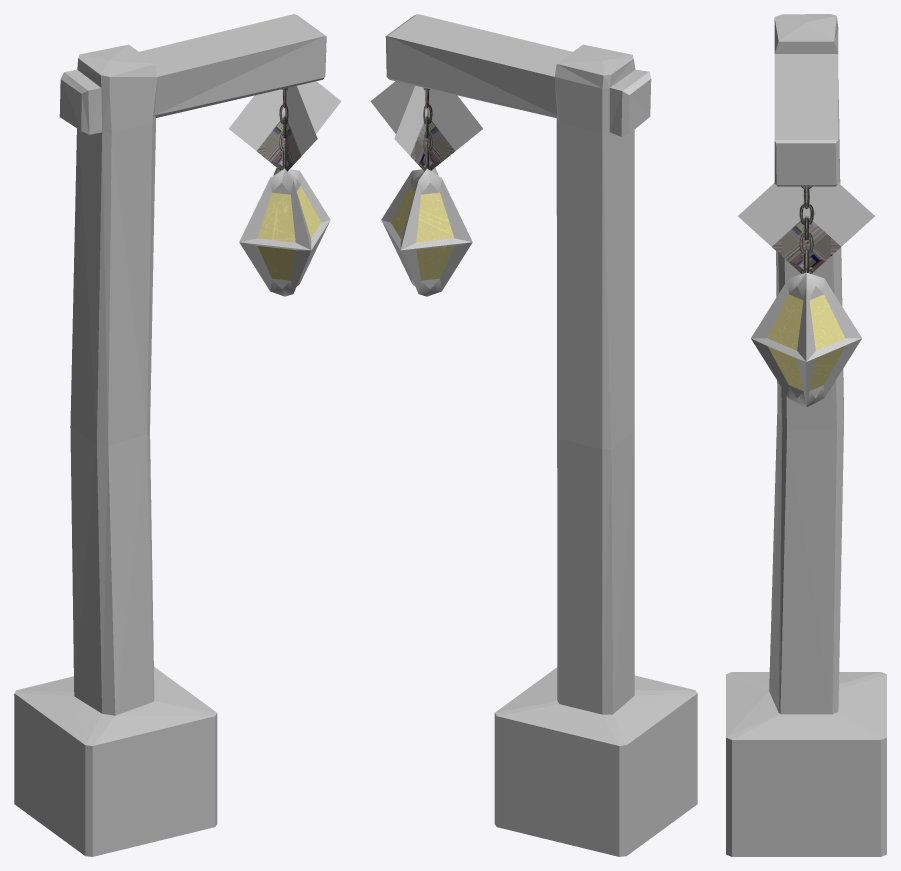
File: shared_lightpole.fbx
3 views of the same model, side by side, from view 1: azimuth 30°, elevation 25°; view 2: azimuth 150°, elevation 25°; view 3: azimuth 270°, elevation 25° (orthographic). The views are drawn at different scales.
Visible parts, largest first — view 1: shared_lightpole; view 2: shared_lightpole; view 3: shared_lightpole.
Boxes of the visible parts, x1=… form: shared_lightpole: x1=14, y1=14, x2=341, y2=856; shared_lightpole: x1=370, y1=14, x2=697, y2=856; shared_lightpole: x1=726, y1=14, x2=886, y2=856.
Size of the model in its own units: 1.39 by 3.44 by 0.63.
